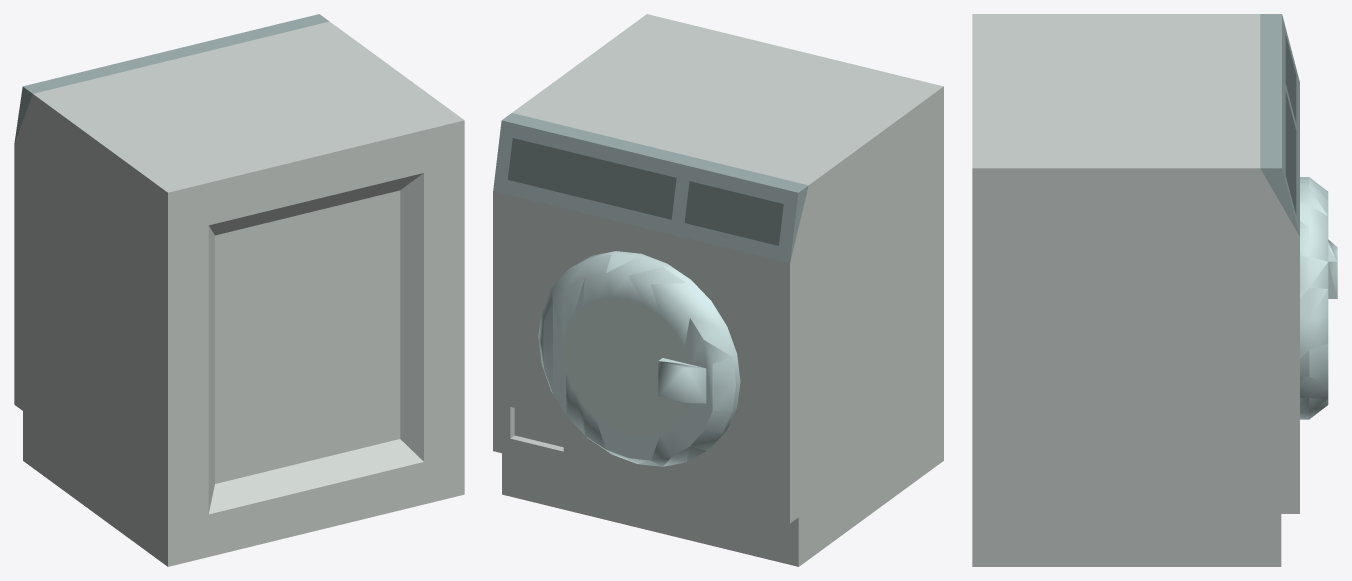
Rendered from washer.glb.
The picture shows the model from 3 angles, left to right: view 1: azimuth 30°, elevation 25°; view 2: azimuth 150°, elevation 25°; view 3: azimuth 270°, elevation 25°; orthographic projection. The views are drawn at different scales.
Visible parts, largest first — view 1: washer; view 2: washer; view 3: washer.
Boxes of the visible parts, box(x1,y1,x2,y2) form: washer: box(14, 14, 464, 566); washer: box(493, 14, 943, 566); washer: box(972, 14, 1337, 566).
Bounding box in the file's own units: 3.9 × 4.7 × 3.9.
